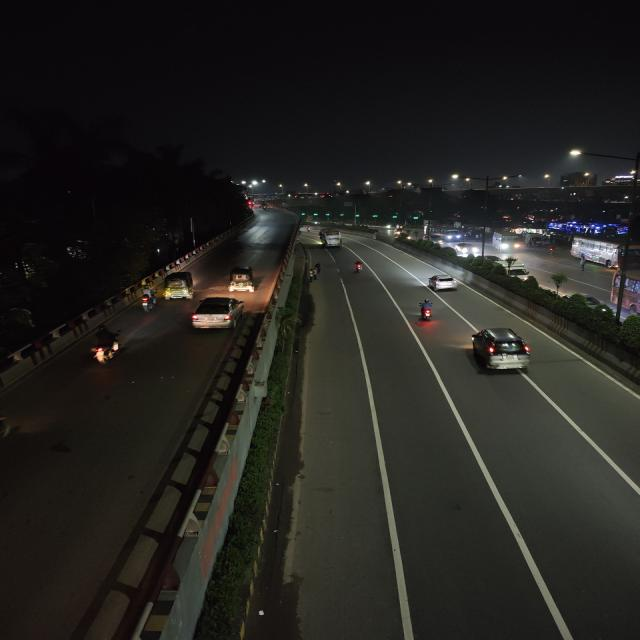bus: (571, 235, 639, 271), (608, 266, 640, 323), (493, 231, 525, 254), (428, 227, 464, 243), (318, 229, 342, 247)
car: (464, 324, 537, 378), (188, 294, 246, 332), (479, 254, 528, 276), (426, 272, 459, 293)
cng: (161, 270, 197, 301), (226, 265, 259, 294)
motorcycle: (86, 326, 126, 366), (413, 298, 439, 323), (136, 288, 159, 313), (351, 259, 365, 275)
pedestrian: (306, 264, 321, 282)
